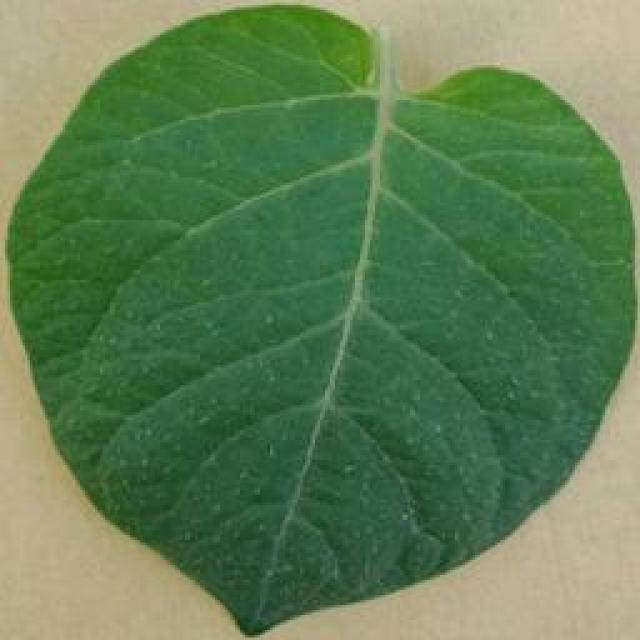Potato_Healthy: (8, 7, 628, 636)
